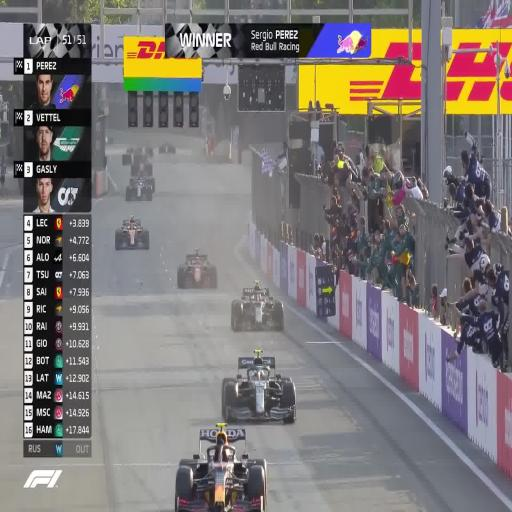f1_car: (175, 423, 268, 511), (222, 349, 296, 423), (231, 281, 284, 330), (177, 249, 217, 288), (115, 216, 149, 249), (125, 176, 153, 201), (132, 157, 154, 177), (159, 140, 178, 158), (122, 146, 138, 164), (138, 140, 155, 156)
